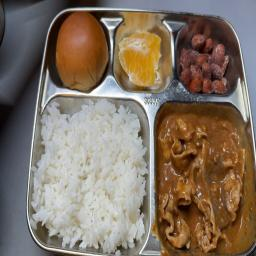100_beef: (150, 107, 249, 250)
100_bread: (51, 9, 111, 92)
100_nuts: (179, 28, 233, 96)
100_rice: (33, 96, 150, 253)
50_orange: (118, 24, 172, 91)
